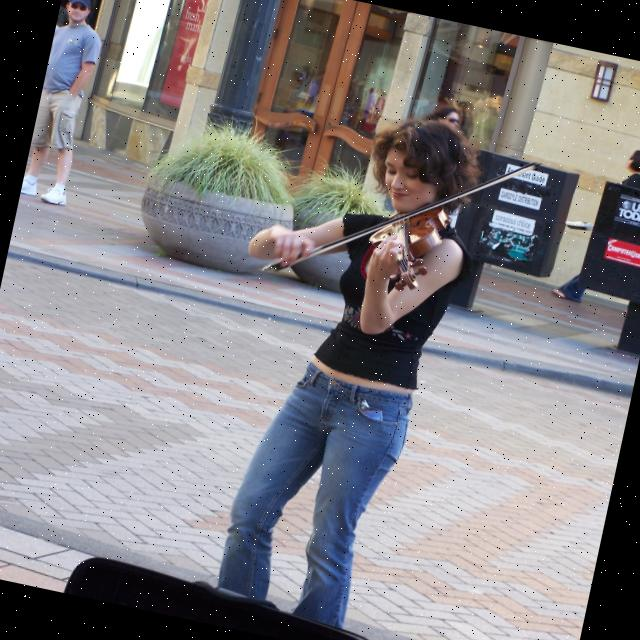violin: (355, 190, 452, 298)
